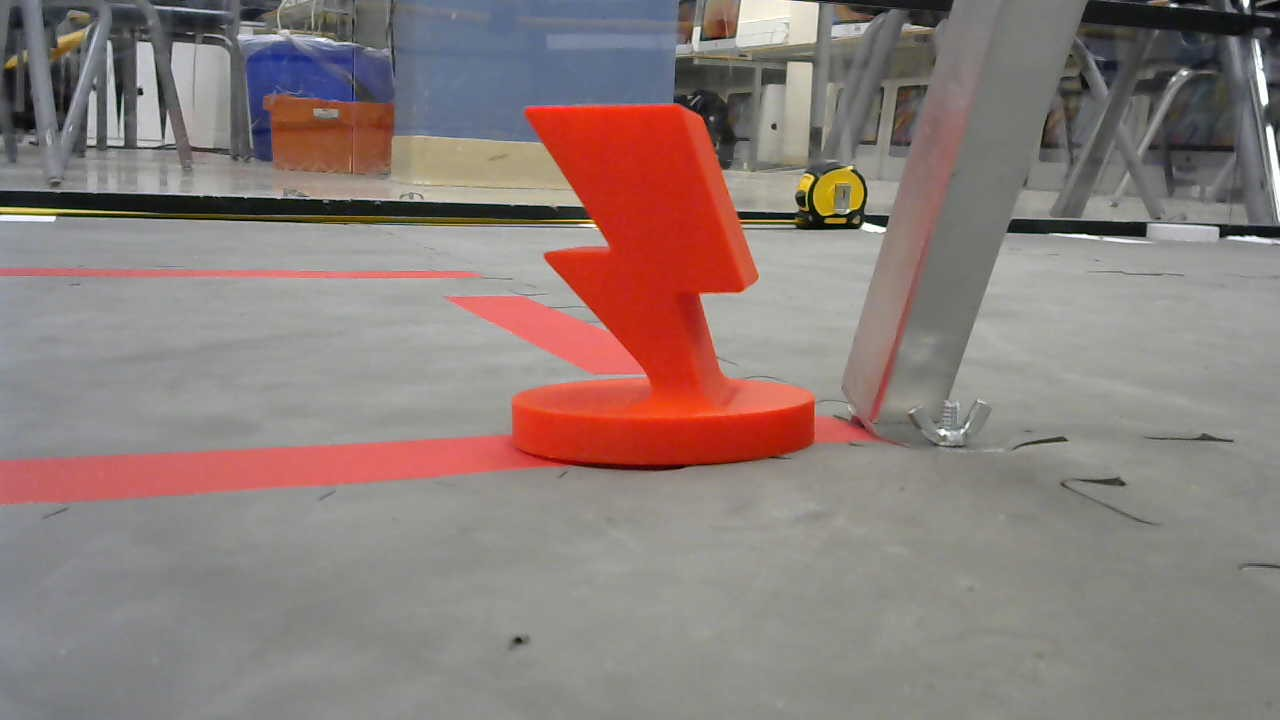redobject: (510, 99, 818, 469)
